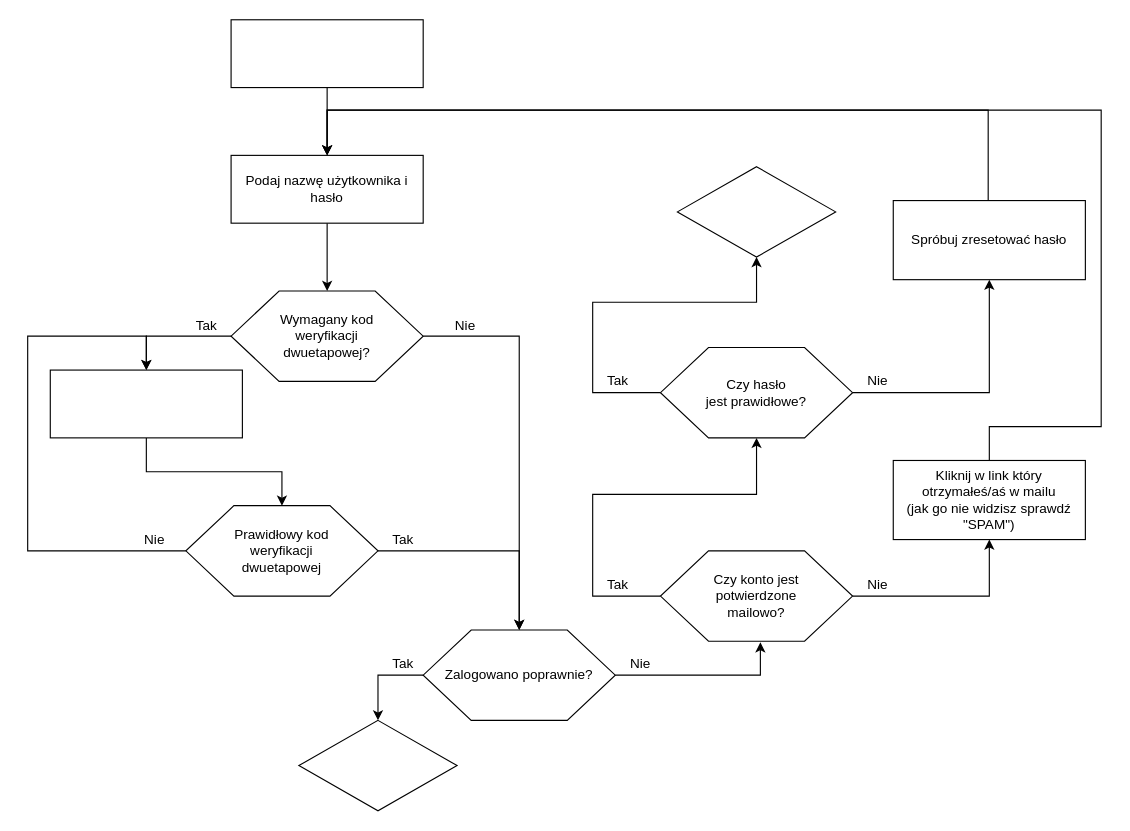
This 1130x831 diagram has some shape labels left out. Here are the shapes that lost their labels. From the top down, the box of each, then its label:
(230, 19, 423, 88): Próba logowania
(676, 166, 836, 257): Zgłoś problem na discordzie
(49, 369, 242, 438): Podaj kod weryfikacji dwuetapowej z aplikacji Authy/Google Authenticator
(298, 719, 457, 811): Gotowe
